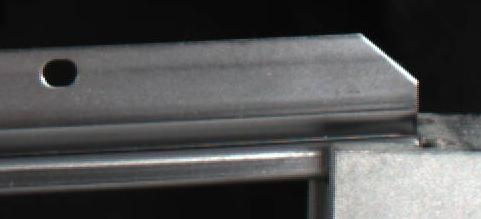cut: (290, 32, 420, 174)
holes: (39, 56, 79, 89)
